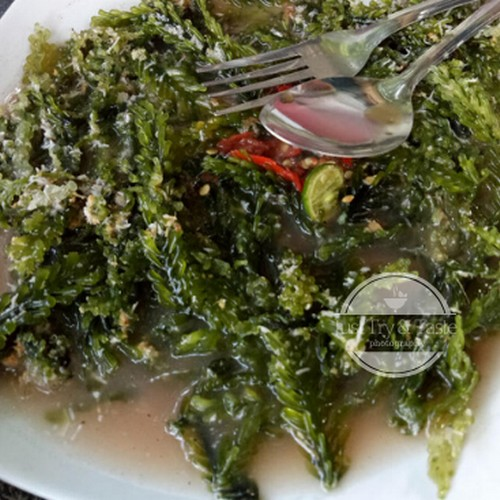bulung buni: (28, 35, 477, 446)
